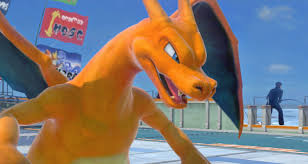charizard: (1, 1, 249, 164)
